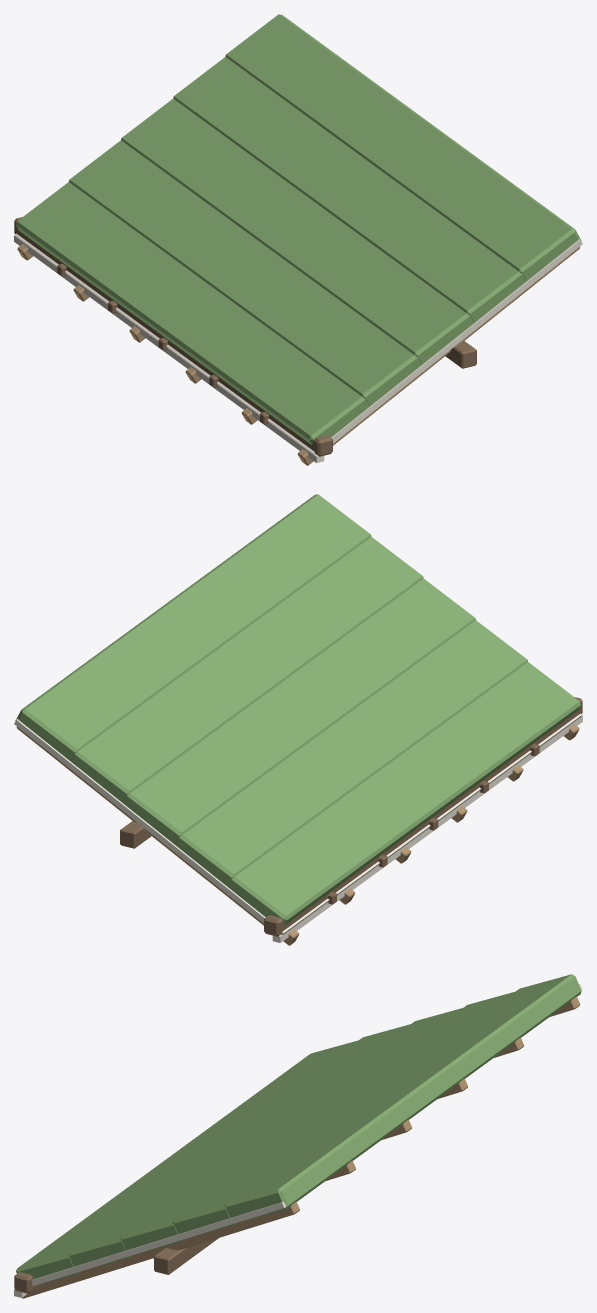
Rendered from torvtak_roof_slope.glb.
3 views of the same model, one above another, from view 1: azimuth 30°, elevation 25°; view 2: azimuth 150°, elevation 25°; view 3: azimuth 330°, elevation 25° (orthographic).
Visible parts, largest first — view 1: torvtak_roof_slope; view 2: torvtak_roof_slope; view 3: torvtak_roof_slope.
Boxes of the visible parts, x1,y1,x2,y2 form: torvtak_roof_slope: (14,14,582,465); torvtak_roof_slope: (14,494,582,945); torvtak_roof_slope: (14,974,582,1298).
Bounding box in the file's own units: 3.17 × 1.92 × 6.1.
